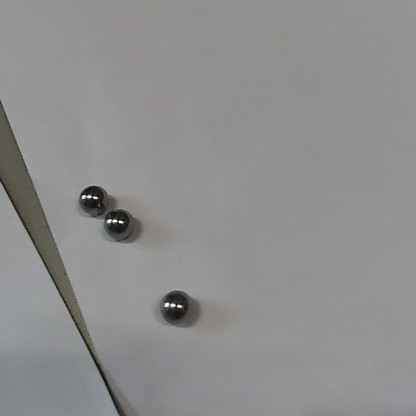ironball: (101, 206, 138, 242), (158, 290, 194, 324), (76, 184, 108, 216)
